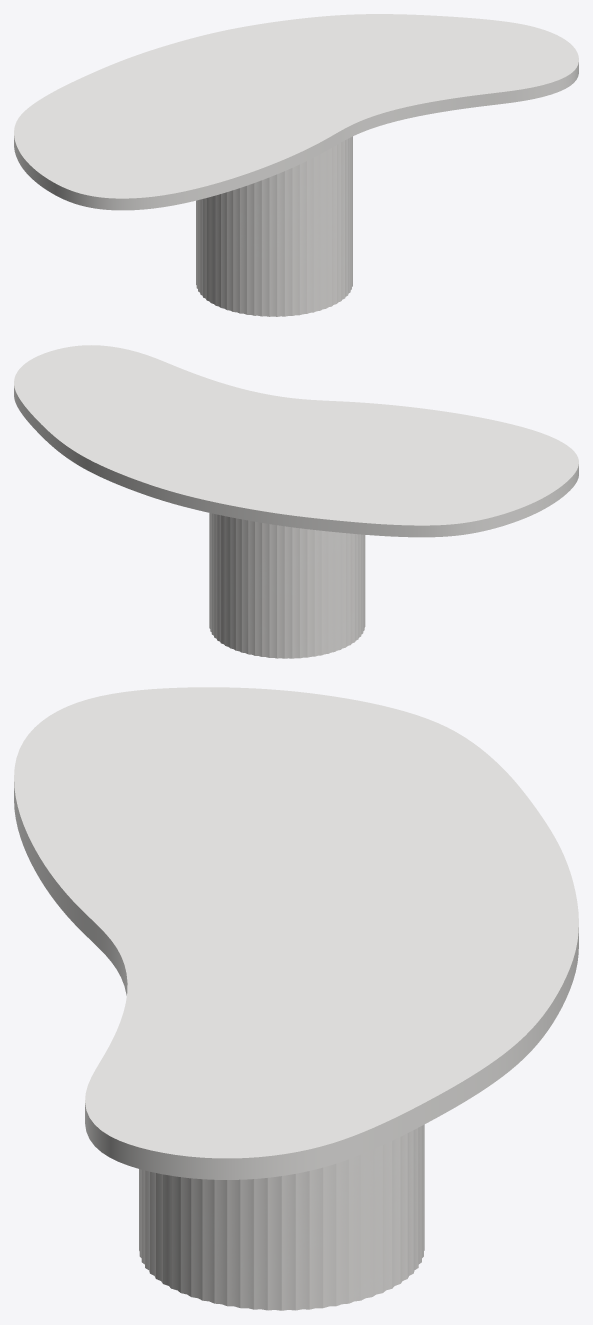
Rendered from purewhite_leaf1_standard_ripple.glb.
3 renders of one model, top to bottom at view 1: azimuth 30°, elevation 25°; view 2: azimuth 150°, elevation 25°; view 3: azimuth 270°, elevation 25°, orthographic. The views are drawn at different scales.
Visible parts, largest first — view 1: standard_leaf1, ripple; view 2: standard_leaf1, ripple; view 3: standard_leaf1, ripple.
Boxes of the visible parts, x1,y1,x2,y2 form: standard_leaf1: (14,14,578,210); ripple: (196,136,352,316); standard_leaf1: (14,345,578,537); ripple: (209,513,365,658); standard_leaf1: (14,687,578,1179); ripple: (139,1124,424,1310).
Size of the model in its own units: 7.5 by 2.51 by 3.8.
Materials: 1 (1 with a texture image).
